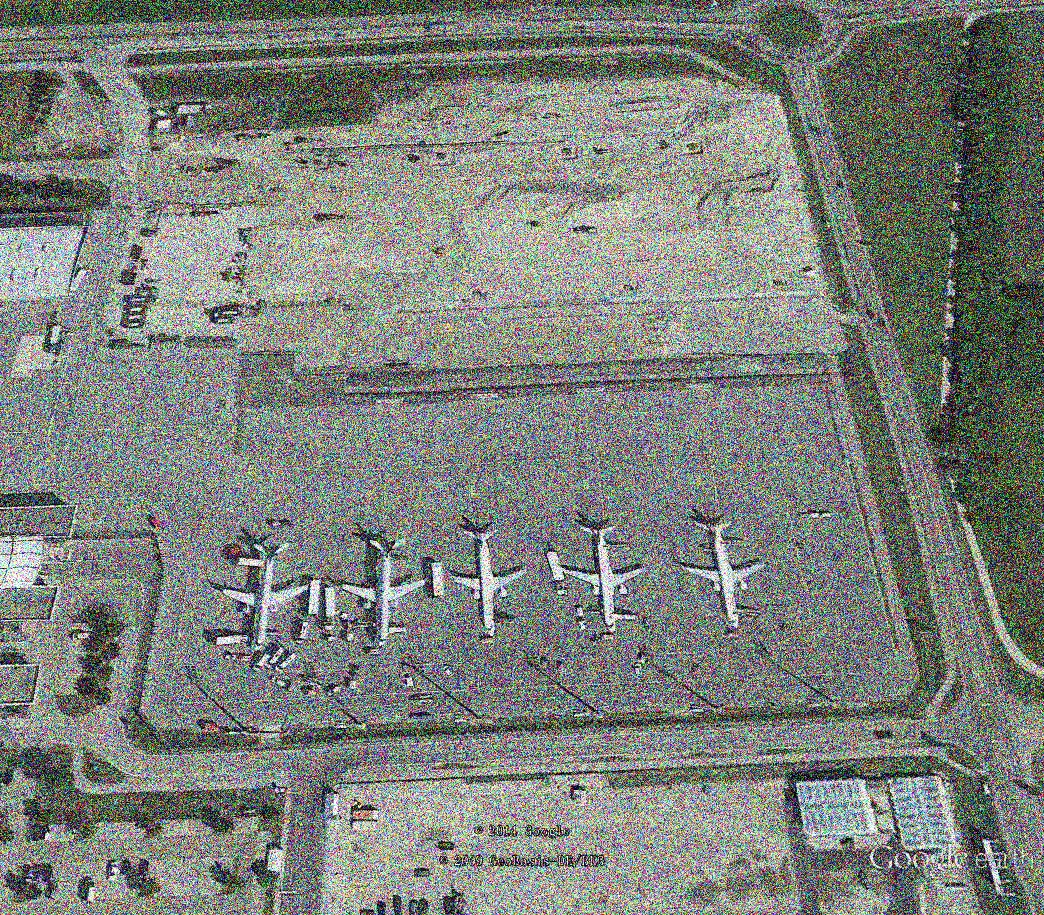aircraft: (672, 514, 774, 637), (219, 538, 318, 658), (336, 532, 433, 652), (552, 516, 649, 636), (445, 523, 531, 643)
